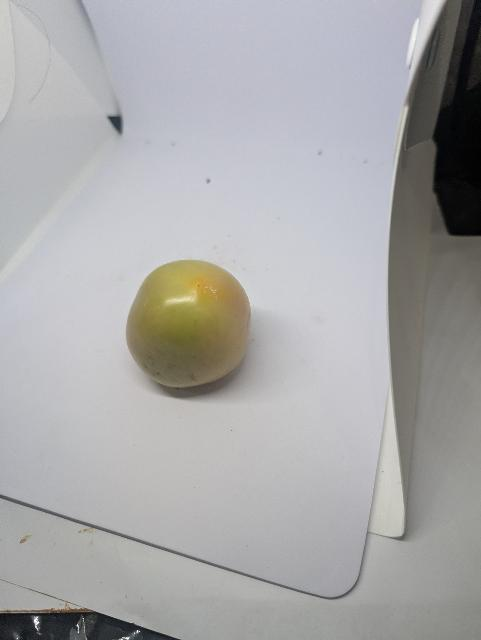breaker: (124, 254, 255, 396)
